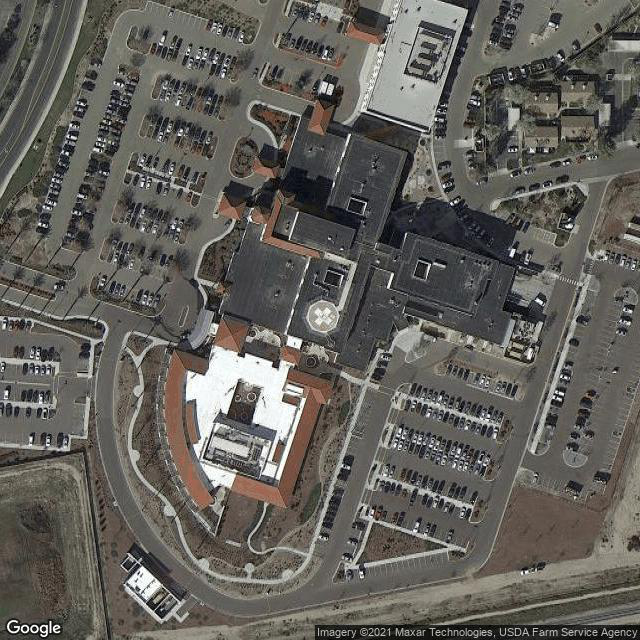Helipad: (307, 300, 340, 332)
